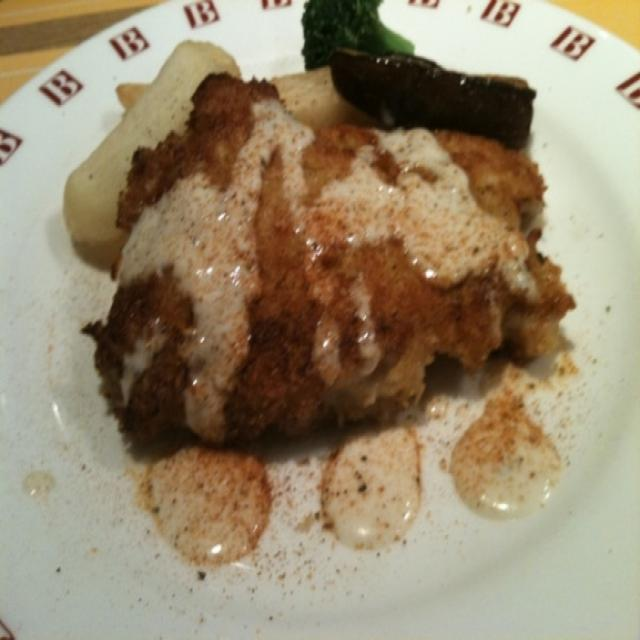鸡肉料理 含炸鸡: (54, 21, 604, 581)
